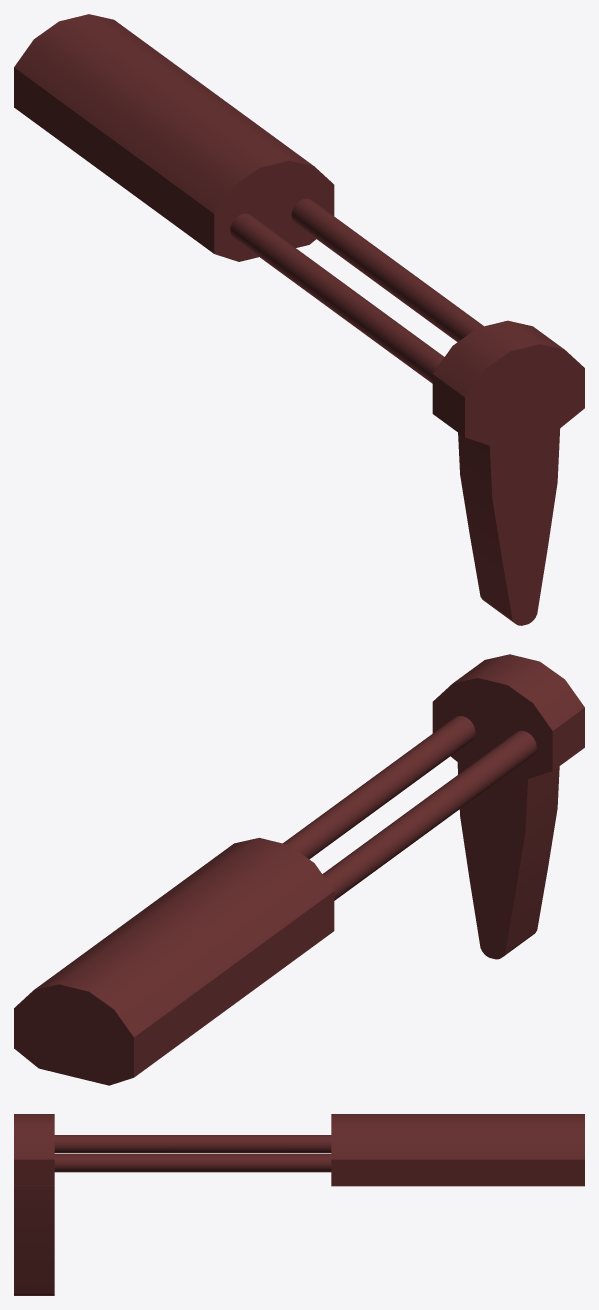
The model's file is Stock_4.fbx.
3 renders of one model, top to bottom at view 1: azimuth 30°, elevation 25°; view 2: azimuth 150°, elevation 25°; view 3: azimuth 270°, elevation 25°, orthographic. The views are drawn at different scales.
Parts seen in each view (by area): view 1: Stock_4; view 2: Stock_4; view 3: Stock_4.
Boxes of the visible parts, <box> form: Stock_4: <box>14,14,584,625</box>; Stock_4: <box>14,654,584,1085</box>; Stock_4: <box>14,1114,584,1295</box>.
Bounding box in the file's own units: 0.2139 × 0.4719 × 1.39.
